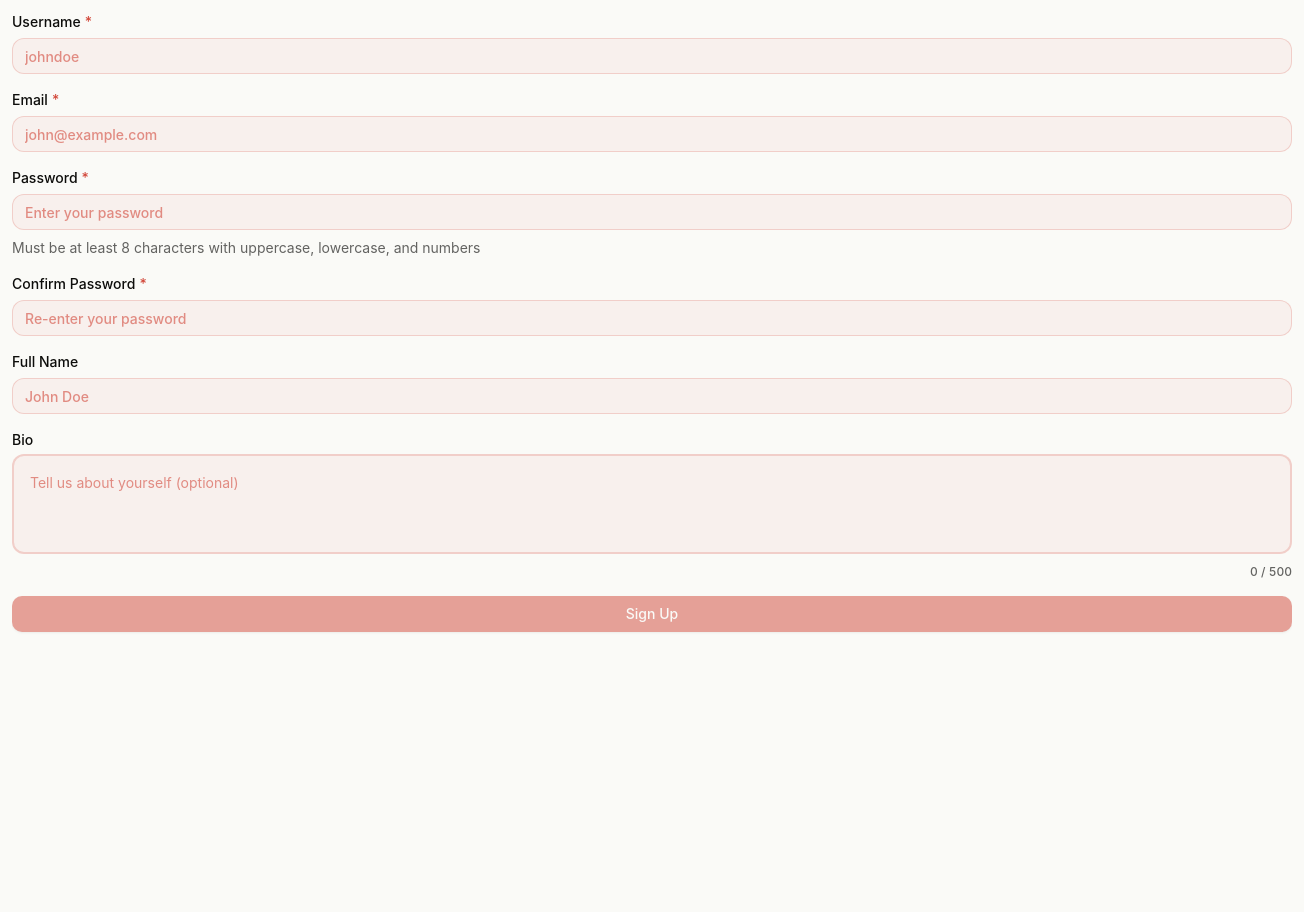
Test: RegisterForm › validates email format
This screenshot has width=1304, height=912.
Type "invalid-email" into the field labelled "Email" at (652, 134), box [12, 116, 1292, 152]
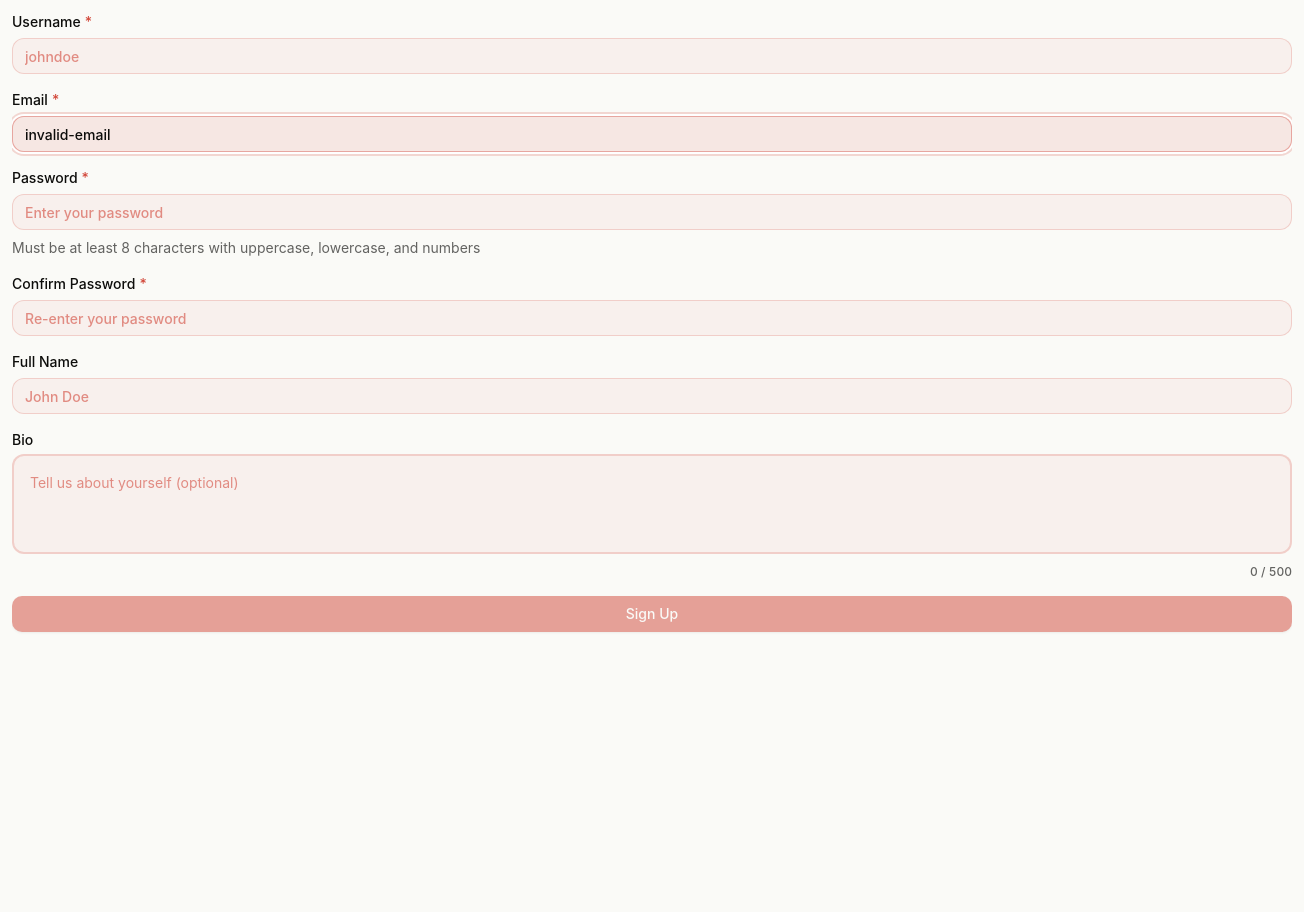
Press Tab
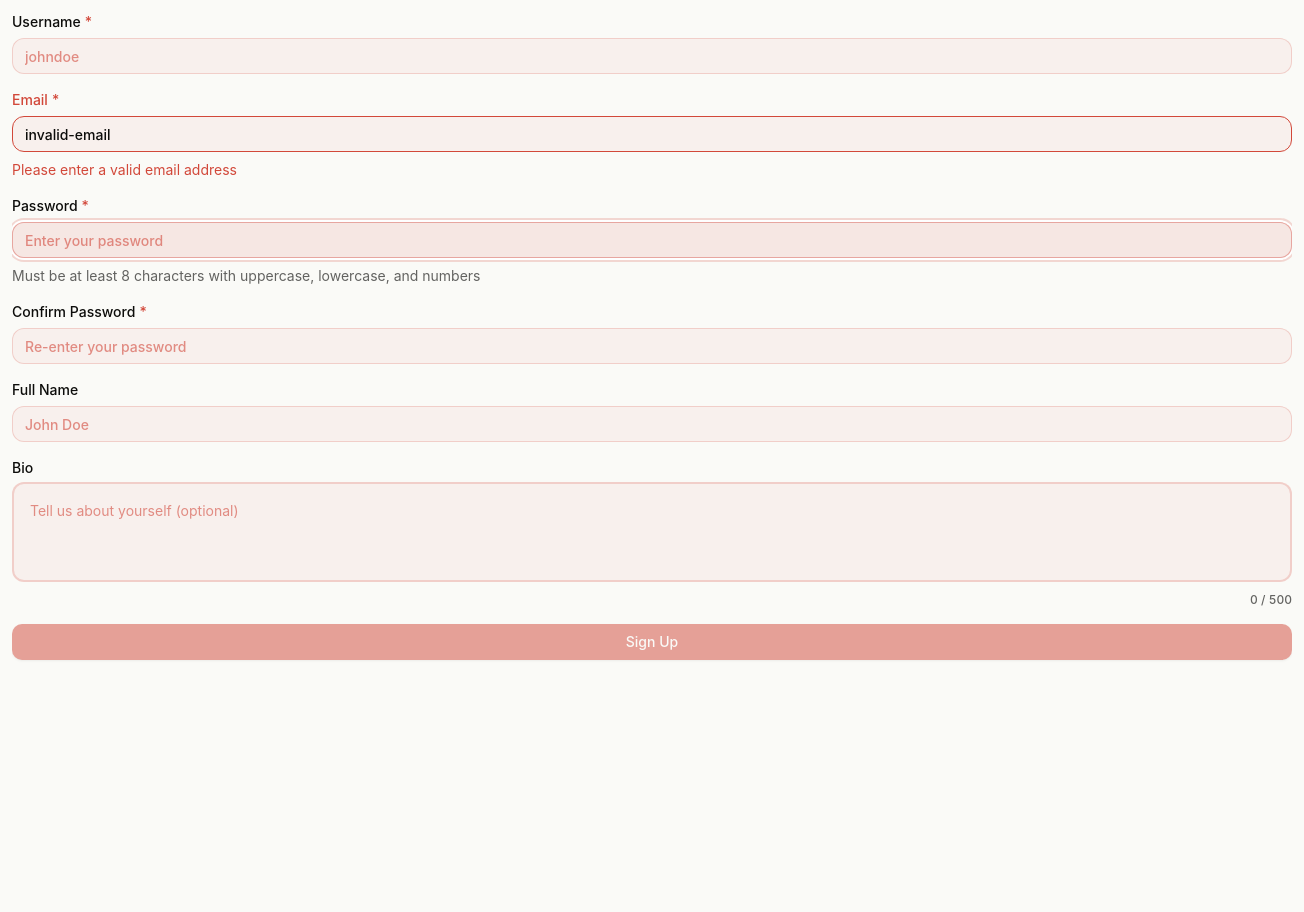
Result: the text "Please enter a valid email address" is shown at [12, 160, 237, 180]
